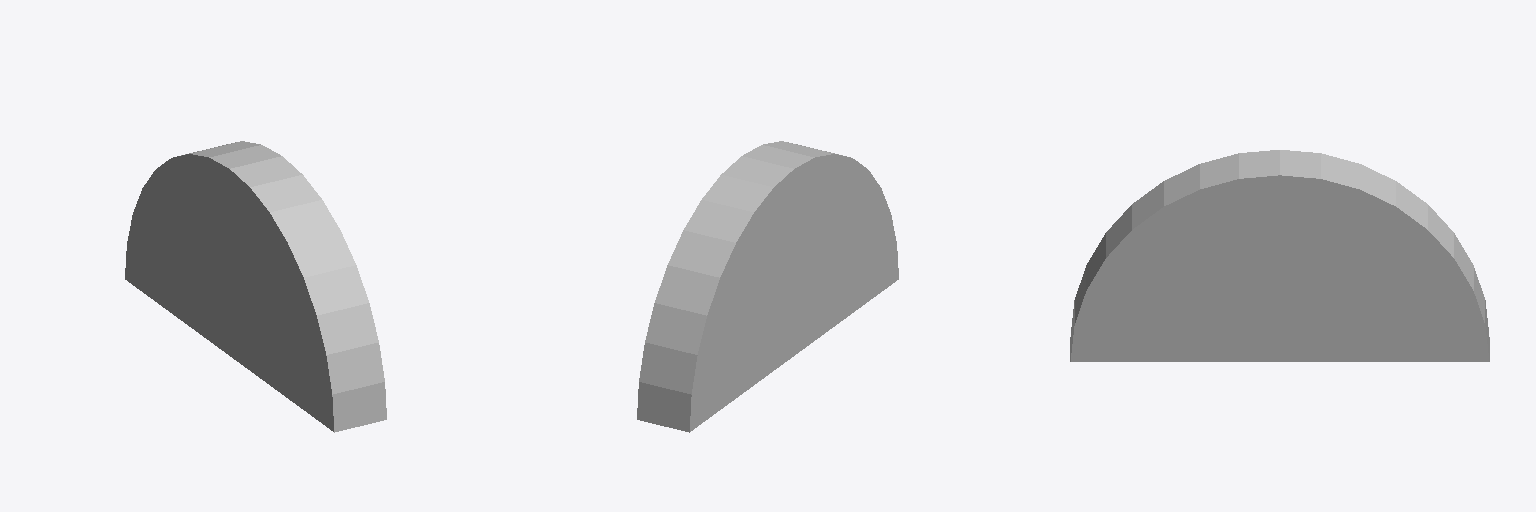
File: doorcr.obj
3 views of the same model, side by side, from view 1: azimuth 30°, elevation 25°; view 2: azimuth 150°, elevation 25°; view 3: azimuth 270°, elevation 25° (orthographic).
Visible parts, largest first — view 1: doorcircle.r_Cylinder.006; view 2: doorcircle.r_Cylinder.006; view 3: doorcircle.r_Cylinder.006.
Part boxes in pixels (bbox=[...]): doorcircle.r_Cylinder.006: bbox=[125, 141, 386, 432]; doorcircle.r_Cylinder.006: bbox=[637, 141, 898, 432]; doorcircle.r_Cylinder.006: bbox=[1070, 150, 1489, 361].
Size of the model in its own units: 0.0489 by 0.1657 by 0.3365.